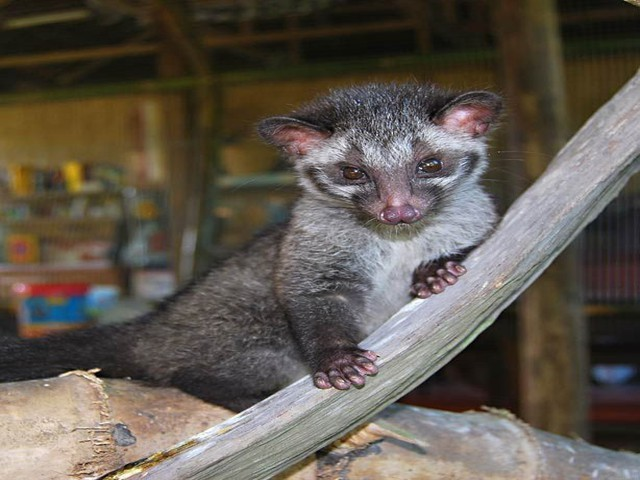civet: (10, 80, 509, 394)
